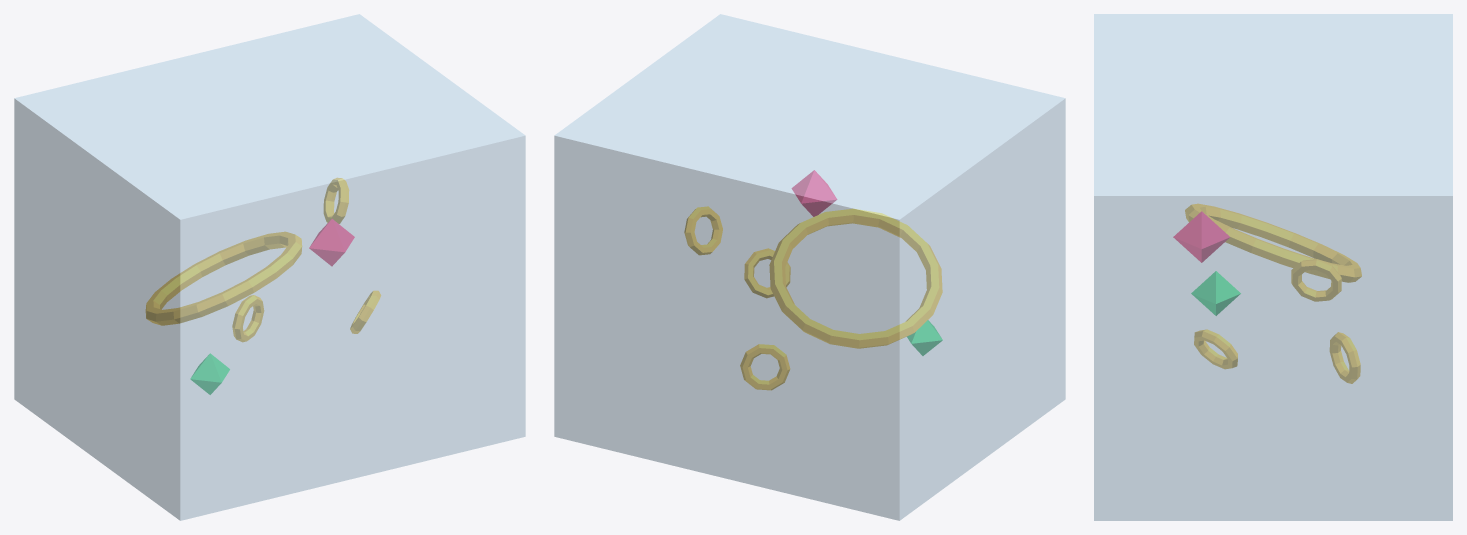
File: rink_ice_block.glb
3 views of the same model, side by side, from view 1: azimuth 30°, elevation 25°; view 2: azimuth 150°, elevation 25°; view 3: azimuth 270°, elevation 25° (orthographic). The views are drawn at different scales.
Parts seen in each view (by area): view 1: block_block_ice, necklace_jewel_gold, ring_jewel_gold, gem_jewel_gem, gem_jewel_green; view 2: block_block_ice, necklace_jewel_gold, ring_jewel_gold, gem_jewel_gem, gem_jewel_green; view 3: block_block_ice, necklace_jewel_gold, ring_jewel_gold, gem_jewel_gem, gem_jewel_green.
Part boxes in pixels (x1,y1,x2,y2): block_block_ice: [14, 14, 525, 520]; necklace_jewel_gold: [145, 231, 302, 325]; ring_jewel_gold: [232, 177, 380, 342]; gem_jewel_gem: [309, 219, 354, 266]; gem_jewel_green: [190, 353, 229, 394]; block_block_ice: [554, 14, 1065, 520]; necklace_jewel_gold: [769, 208, 942, 348]; ring_jewel_gold: [684, 206, 790, 390]; gem_jewel_gem: [791, 170, 837, 216]; gem_jewel_green: [907, 320, 942, 355]; block_block_ice: [1094, 14, 1452, 520]; necklace_jewel_gold: [1185, 203, 1361, 282]; ring_jewel_gold: [1194, 259, 1360, 383]; gem_jewel_gem: [1173, 211, 1229, 262]; gem_jewel_green: [1191, 271, 1240, 315].
Bounding box in the file's own units: 0.6 × 0.5 × 0.5.
